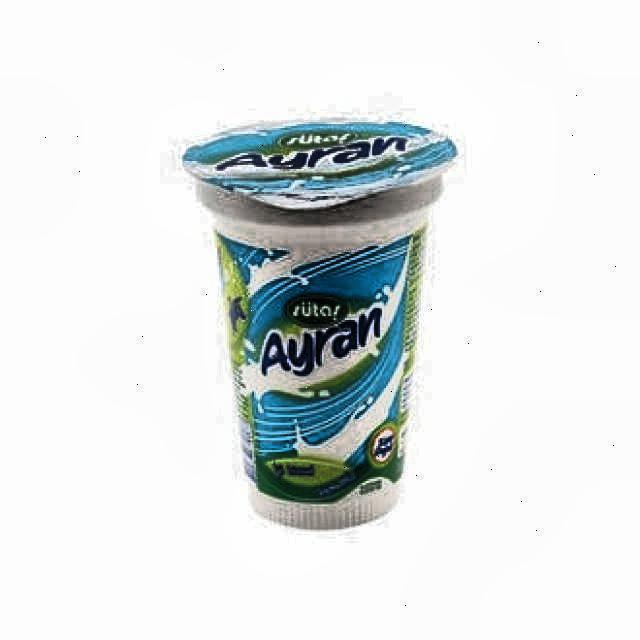plastic: (179, 120, 457, 534)
